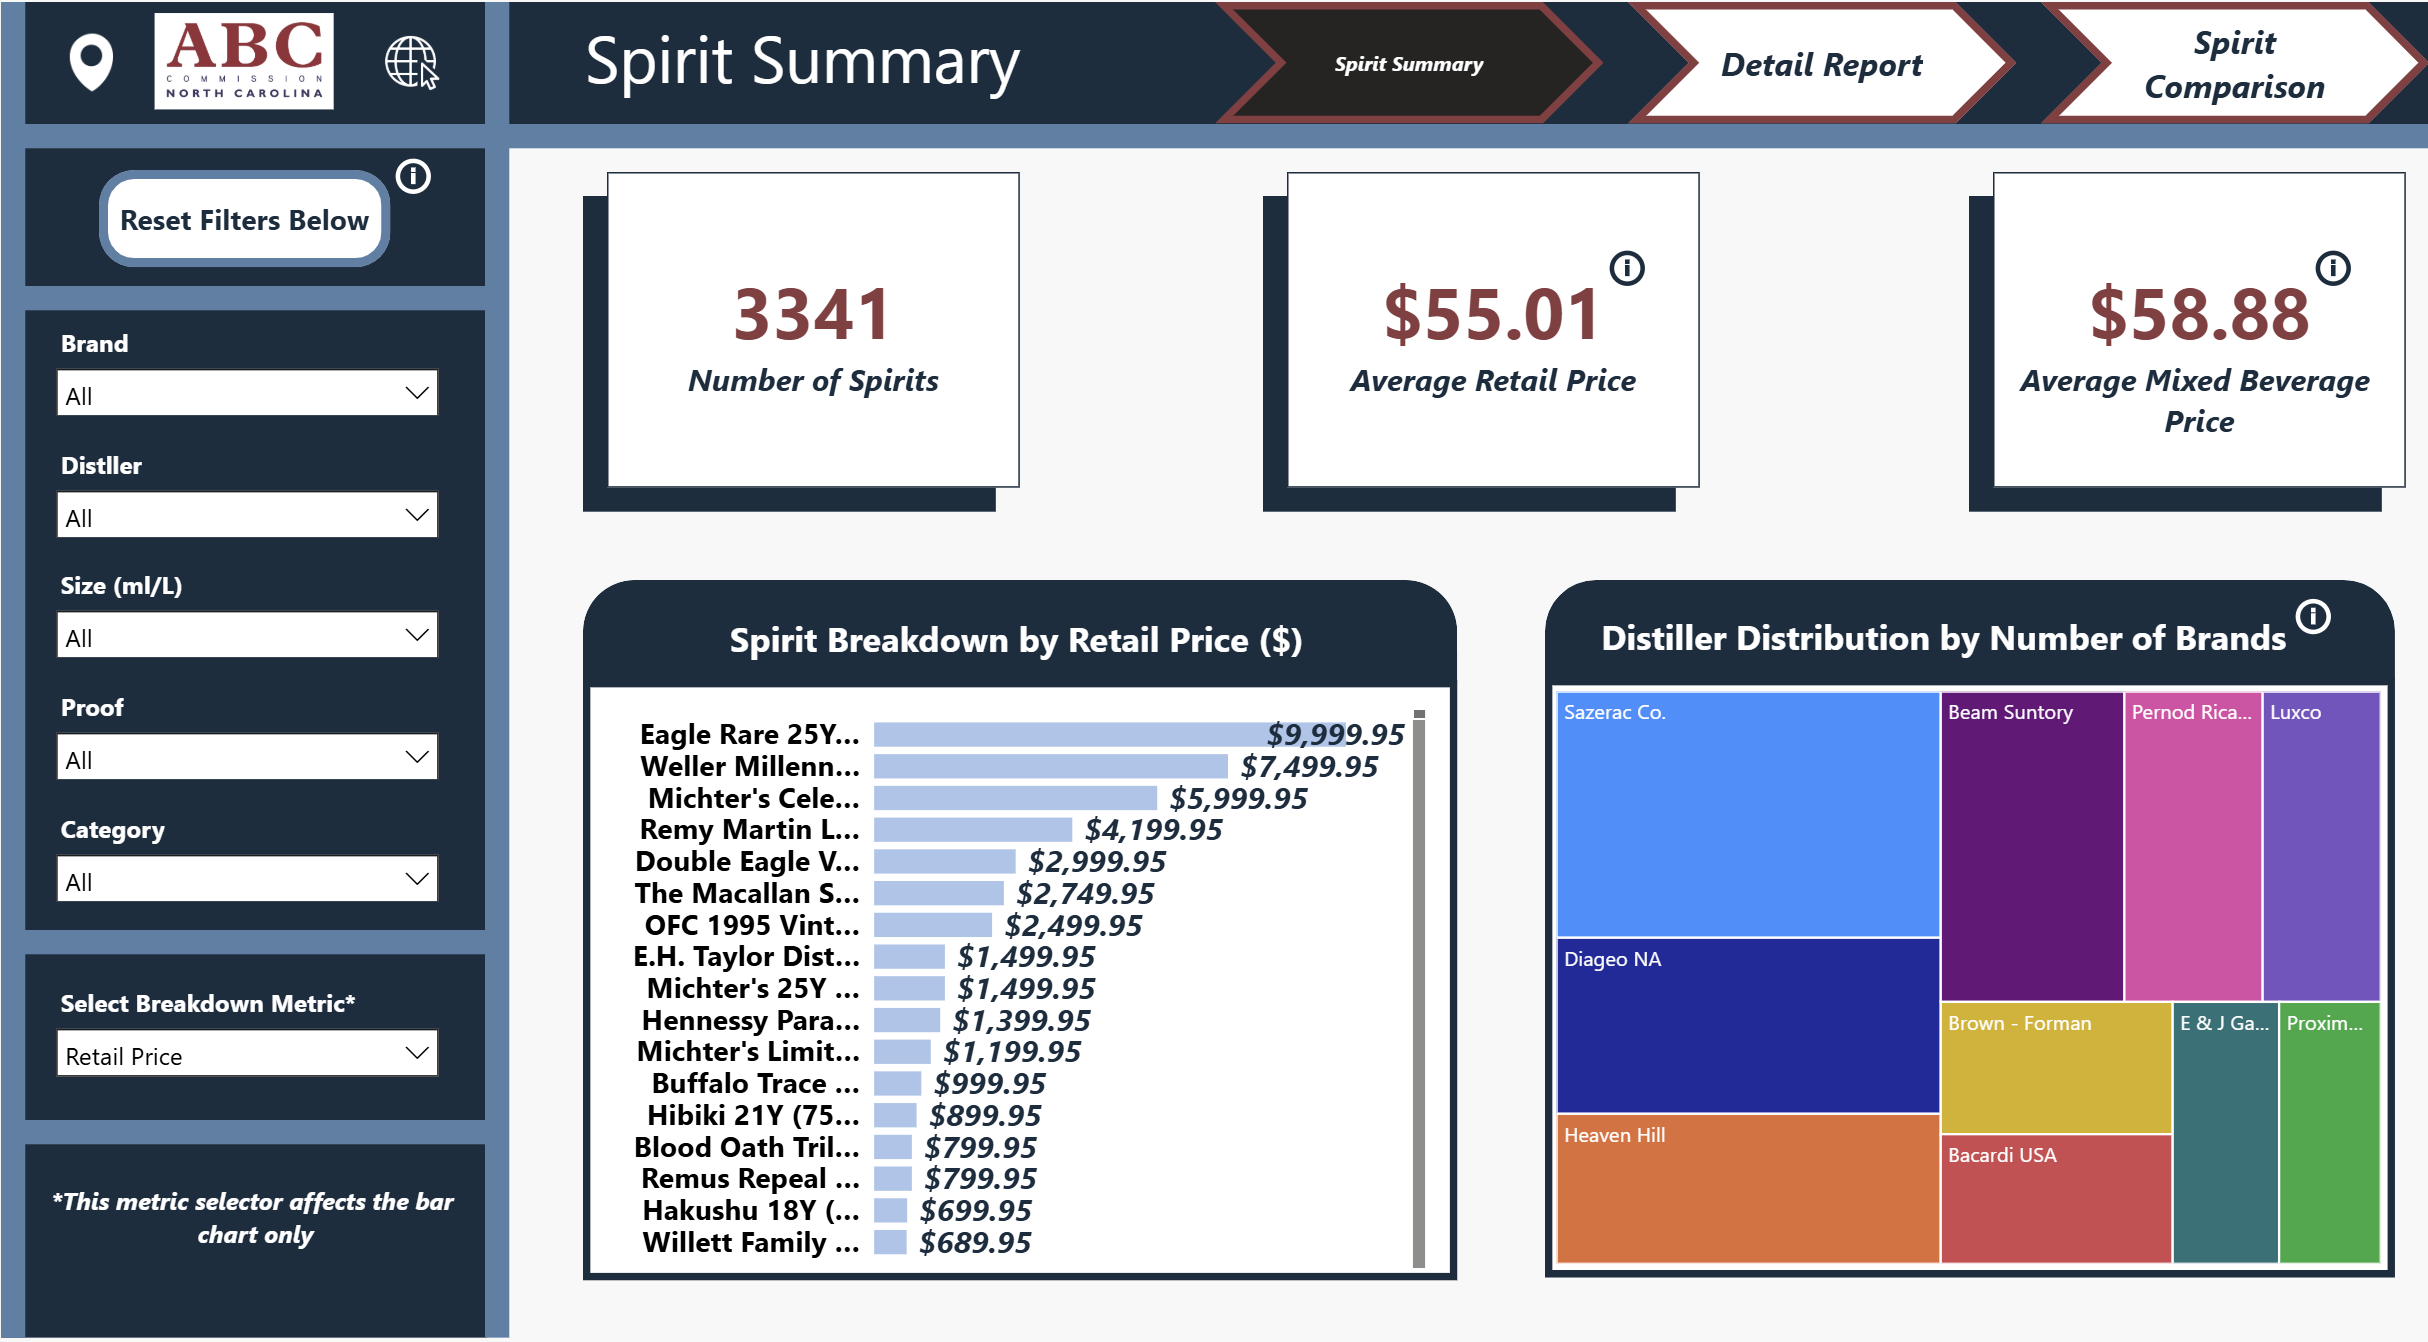

The page's visual inventory and layout, read from the dashboard file:
{"tool":"powerbi","page":{"name":"Spirit Summary","canvas":[1600,900],"ordinal":0},"visuals":[{"type":"group","id":"g1","title":"Number of Products KPI","box":[384,128,288,224],"z":0},{"type":"shape","box":[384,144,272,208],"z":0,"group":"g1"},{"type":"shape","box":[832,144,272,208],"z":0,"group":"g3"},{"type":"shape","box":[1296,144,272,208],"z":0,"group":"g2"},{"type":"shape","box":[384,396,576,68],"z":0,"group":"g4"},{"type":"shape","box":[1017,396,560,67],"z":0,"group":"g5"},{"type":"slicer","title":"Selected Metric Slicer","fields":{"Values":["Metric Selector.Metric"]},"box":[26,659,272,80],"z":0,"group":"g6"},{"type":"card","fields":{"Values":["Final Product List.Number of Products"]},"box":[400,128,272,208],"z":1000,"group":"g1"},{"type":"card","fields":{"Values":["Final Product List.Average Retail Price"]},"box":[848,128,272,208],"z":1000,"group":"g3"},{"type":"card","fields":{"Values":["Final Product List.Average Mixed Beverage Price"]},"box":[1312,128,272,208],"z":1000,"group":"g2"},{"type":"slicer","title":"Selected Metric Slicer","fields":{"Values":["Final Product List.brand_name"]},"box":[26,224,272,64],"z":1000,"group":"g6"},{"type":"card","fields":{"Values":["Metric Selector.Selected Metric Label"]},"box":[390.3,403.9,558.5,64.1],"z":1000,"group":"g4"},{"type":"shape","title":"Treemap Background","box":[1017,461,560,395],"z":1000},{"type":"treemap","fields":{"Group":["Final Product List.supplier"],"Values":["Final Product List.Brand Count"]},"box":[1020,465,553,387],"z":1000,"group":"g5"},{"type":"shape","box":[0,16,320,880],"z":2000},{"type":"actionButton","title":"Supplier Info Icon","box":[1056,176,32,32],"z":2000,"group":"g3"},{"type":"actionButton","title":"Supplier Info Icon","box":[1520,176,32,32],"z":2000,"group":"g2"},{"type":"slicer","title":"Selected Metric Slicer","fields":{"Values":["Final Product List.supplier"]},"box":[26,304,272,64],"z":2000,"group":"g6"},{"type":"card","fields":{"Values":["Metric Selector.Treemap Title"]},"box":[1008,403,544,64],"z":2000,"group":"g5"},{"type":"shape","title":"Bar Chart Background Shape","box":[384,462,576,395.7],"z":2000,"group":"g4"},{"type":"shape","box":[0,16,1600,96],"z":3000},{"type":"slicer","title":"Selected Metric Slicer","fields":{"Values":["Final Product List.size_with_proper_units"]},"box":[26,383.3,272,64],"z":3000,"group":"g6"},{"type":"actionButton","title":"Supplier Info Icon","box":[1508,403,32,34.7],"z":3000,"group":"g5"},{"type":"barChart","fields":{"Y":["Metric Selector.Selected Metric Value"],"Category":["Final Product List.Product"]},"box":[400,468.2,544,385.8],"z":3000,"group":"g4"},{"type":"textbox","box":[208,18,640,80],"z":4000},{"type":"slicer","title":"Selected Metric Slicer","fields":{"Values":["Final Product List.proof"]},"box":[26,463.3,272,64],"z":4000,"group":"g6"},{"type":"shape","box":[0,96,1600,16],"z":5000},{"type":"slicer","title":"Selected Metric Slicer","fields":{"Values":["Final Product List.product_category"]},"box":[26,544,272,64],"z":5000,"group":"g6"},{"type":"shape","box":[319,16,16,880],"z":6000},{"type":"image","box":[96,7,128,96],"z":7000},{"type":"actionButton","box":[64,126,192,64],"z":8000},{"type":"group","id":"g2","title":"Average Mixed Beverage Price KPI Group","box":[1296,128,288,224],"z":9000},{"type":"group","id":"g3","title":"Average Retail Price KPI Group","box":[832,128,288,224],"z":10000},{"type":"group","id":"g4","title":"Bar Chart Group","box":[384,396,576,461.7],"z":11000},{"type":"actionButton","title":"Supplier Info Icon","box":[256,114,32,32],"z":12000},{"type":"group","id":"g5","title":"Group 1","box":[1008,396,569,456],"z":13000},{"type":"shape","box":[0,16,16,880],"z":14000},{"type":"shape","box":[0,752,330,16],"z":15000},{"type":"card","fields":{"Values":["Min(Metric Selector.Metric Disclaimer)"]},"box":[16,784,304,64],"z":16000},{"type":"shape","box":[0,203,332,16],"z":17000},{"type":"group","id":"g6","title":"Left Side Slicer Group","box":[26,224,272,515],"z":18000},{"type":"pageNavigator","box":[800,16,800,80],"z":19000},{"type":"image","box":[230,32,80,48],"z":20000},{"type":"image","box":[35,32,48,48],"z":21000},{"type":"shape","box":[0,627,330,16],"z":22000}]}

Visuals, with their boxes in screenshot pixels (x1, y1, x2, y2), scaled from the page's 1600x900 canvas onto the 2428x1342 screenshot:
"Number of Products KPI" group: left=583, top=191, right=1020, bottom=525
shape: left=583, top=215, right=995, bottom=525
shape: left=1263, top=215, right=1675, bottom=525
shape: left=1967, top=215, right=2379, bottom=525
shape: left=583, top=590, right=1457, bottom=692
shape: left=1543, top=590, right=2393, bottom=690
"Selected Metric Slicer" slicer: left=39, top=983, right=452, bottom=1102
card - Final Product List.Number of Products: left=607, top=191, right=1020, bottom=501
card - Final Product List.Average Retail Price: left=1287, top=191, right=1700, bottom=501
card - Final Product List.Average Mixed Beverage Price: left=1991, top=191, right=2404, bottom=501
"Selected Metric Slicer" slicer: left=39, top=334, right=452, bottom=429
card - Metric Selector.Selected Metric Label: left=592, top=602, right=1440, bottom=698
"Treemap Background" shape: left=1543, top=687, right=2393, bottom=1276
treemap - Final Product List.supplier x Final Product List.Brand Count: left=1548, top=693, right=2387, bottom=1270
shape: left=0, top=24, right=486, bottom=1336
"Supplier Info Icon" actionButton: left=1602, top=262, right=1651, bottom=310
"Supplier Info Icon" actionButton: left=2307, top=262, right=2355, bottom=310
"Selected Metric Slicer" slicer: left=39, top=453, right=452, bottom=549
card - Metric Selector.Treemap Title: left=1530, top=601, right=2355, bottom=696
"Bar Chart Background Shape" shape: left=583, top=689, right=1457, bottom=1279
shape: left=0, top=24, right=2427, bottom=167
"Selected Metric Slicer" slicer: left=39, top=572, right=452, bottom=667
"Supplier Info Icon" actionButton: left=2288, top=601, right=2337, bottom=653
barChart - Metric Selector.Selected Metric Value x Final Product List.Product: left=607, top=698, right=1433, bottom=1273
textbox: left=316, top=27, right=1287, bottom=146
"Selected Metric Slicer" slicer: left=39, top=691, right=452, bottom=786
shape: left=0, top=143, right=2427, bottom=167
"Selected Metric Slicer" slicer: left=39, top=811, right=452, bottom=907
shape: left=484, top=24, right=508, bottom=1336
image: left=146, top=10, right=340, bottom=154
actionButton: left=97, top=188, right=388, bottom=283
"Average Mixed Beverage Price KPI Group" group: left=1967, top=191, right=2404, bottom=525
"Average Retail Price KPI Group" group: left=1263, top=191, right=1700, bottom=525
"Bar Chart Group" group: left=583, top=590, right=1457, bottom=1279
"Supplier Info Icon" actionButton: left=388, top=170, right=437, bottom=218
"Group 1" group: left=1530, top=590, right=2393, bottom=1270
shape: left=0, top=24, right=24, bottom=1336
shape: left=0, top=1121, right=501, bottom=1145
card - Min(Metric Selector.Metric Disclaimer): left=24, top=1169, right=486, bottom=1264
shape: left=0, top=303, right=504, bottom=327
"Left Side Slicer Group" group: left=39, top=334, right=452, bottom=1102
pageNavigator: left=1214, top=24, right=2427, bottom=143
image: left=349, top=48, right=470, bottom=119
image: left=53, top=48, right=126, bottom=119
shape: left=0, top=935, right=501, bottom=959
